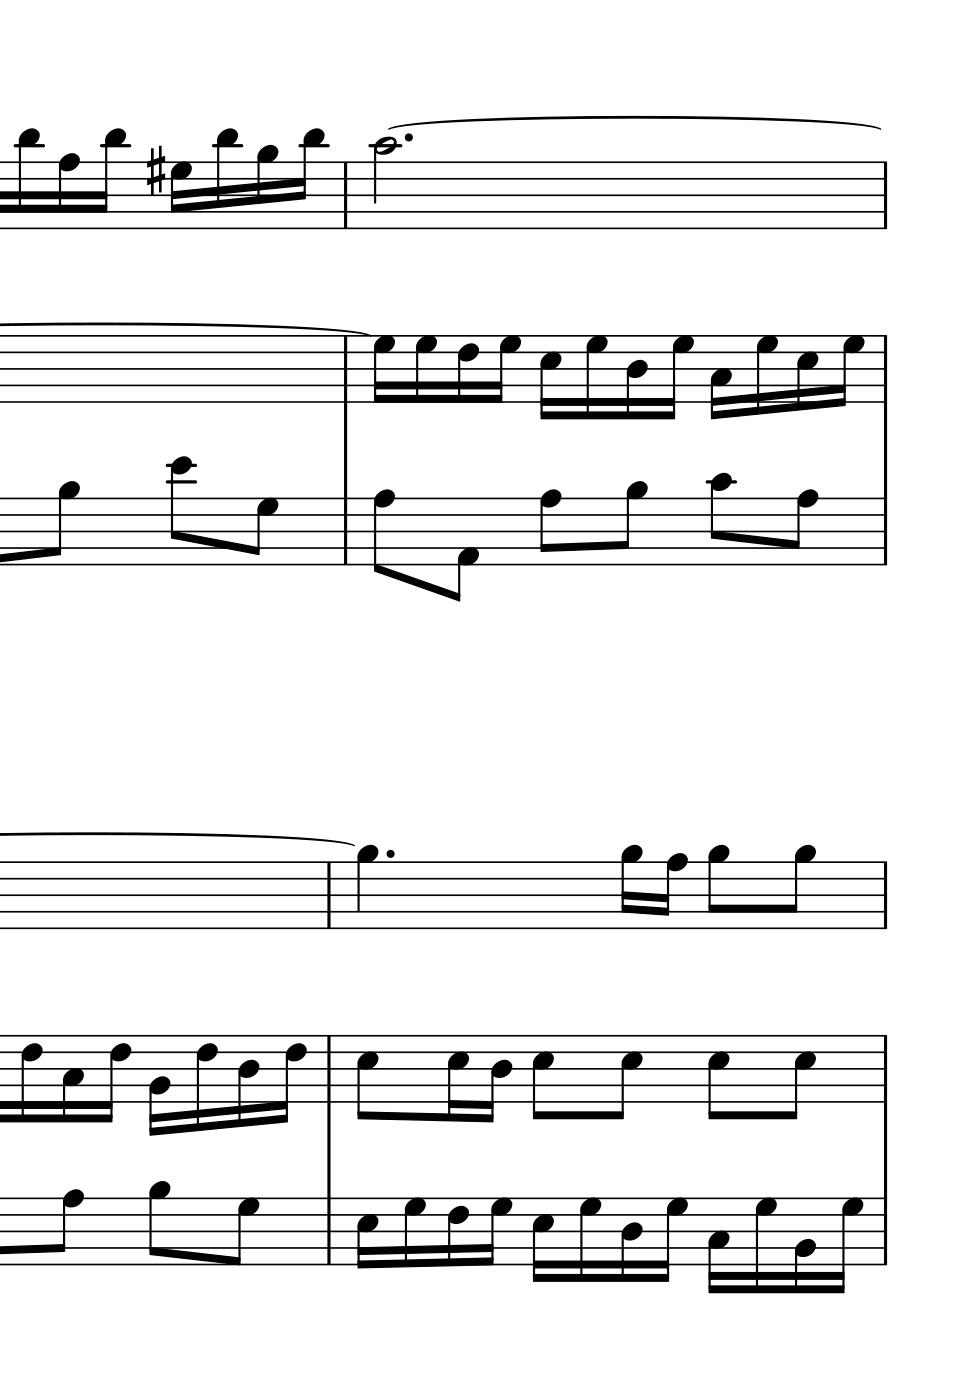16_11: (291, 126, 326, 232), (93, 126, 127, 232), (15, 126, 42, 231), (213, 125, 240, 231)
16_2: (147, 1034, 171, 1138), (792, 1195, 816, 1295)
16_3: (705, 1195, 730, 1296), (59, 1033, 85, 1123), (708, 333, 732, 422)
16_4: (482, 1033, 513, 1124), (237, 1033, 260, 1128), (624, 333, 648, 422), (618, 1196, 643, 1285)
16_5: (537, 333, 562, 421), (529, 1195, 554, 1284), (447, 1033, 470, 1123), (353, 1196, 379, 1271), (794, 332, 818, 413)
16_6: (97, 1032, 132, 1124), (273, 1032, 307, 1124), (193, 1032, 218, 1131), (18, 1032, 43, 1124), (455, 333, 480, 406), (445, 1195, 470, 1269)
16_7: (830, 1195, 865, 1295), (653, 1195, 690, 1284), (660, 333, 695, 421), (751, 1195, 778, 1296), (832, 332, 865, 409), (576, 1194, 602, 1286), (489, 333, 522, 406), (480, 1195, 513, 1268), (582, 331, 608, 422), (753, 333, 778, 417), (400, 1194, 426, 1271), (167, 158, 192, 232), (412, 333, 437, 407), (371, 333, 395, 406)
16_8: (654, 852, 687, 931), (55, 151, 80, 231)
16_9: (253, 144, 279, 231), (617, 843, 642, 931)
2_10: (369, 135, 399, 233)
4_9: (354, 843, 380, 932)
8_1: (448, 494, 480, 603)
8_10: (707, 471, 733, 567)
8_12: (167, 454, 195, 567)
8_5: (784, 1033, 816, 1123), (611, 1033, 643, 1122), (705, 1033, 730, 1122), (530, 1033, 554, 1122), (355, 1033, 379, 1121)
8_7: (245, 496, 278, 566), (227, 1196, 259, 1267)
8_8: (50, 1187, 83, 1267), (786, 488, 818, 567), (371, 488, 397, 576), (537, 487, 562, 568)
8_9: (781, 843, 816, 931), (614, 480, 648, 568), (47, 479, 80, 567), (705, 844, 730, 931), (147, 1180, 170, 1266)
Sharp: (144, 144, 167, 197)
Single_barline: (319, 1198, 338, 1265), (336, 337, 355, 403), (320, 1035, 338, 1103), (336, 498, 354, 565), (876, 1197, 893, 1266), (320, 863, 338, 928), (876, 499, 893, 565), (876, 862, 893, 928), (876, 1036, 893, 1102), (337, 163, 354, 228), (877, 335, 893, 403), (877, 162, 893, 229)
Slur: (386, 115, 885, 131)
dot: (402, 131, 415, 146), (383, 847, 396, 862)
